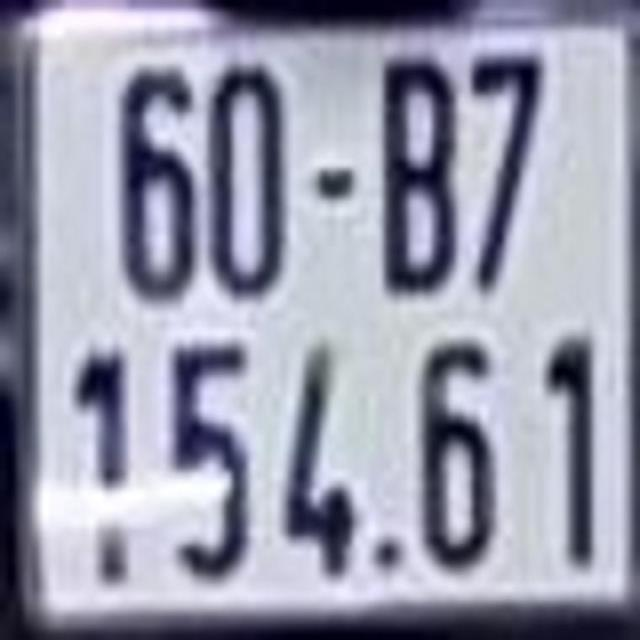0: (204, 57, 289, 304)
1: (64, 339, 132, 584), (538, 327, 602, 570)
4: (280, 333, 362, 578)
5: (166, 334, 253, 584)
6: (414, 331, 504, 576), (113, 58, 197, 300)
7: (466, 50, 545, 301)
B: (376, 52, 461, 298)
